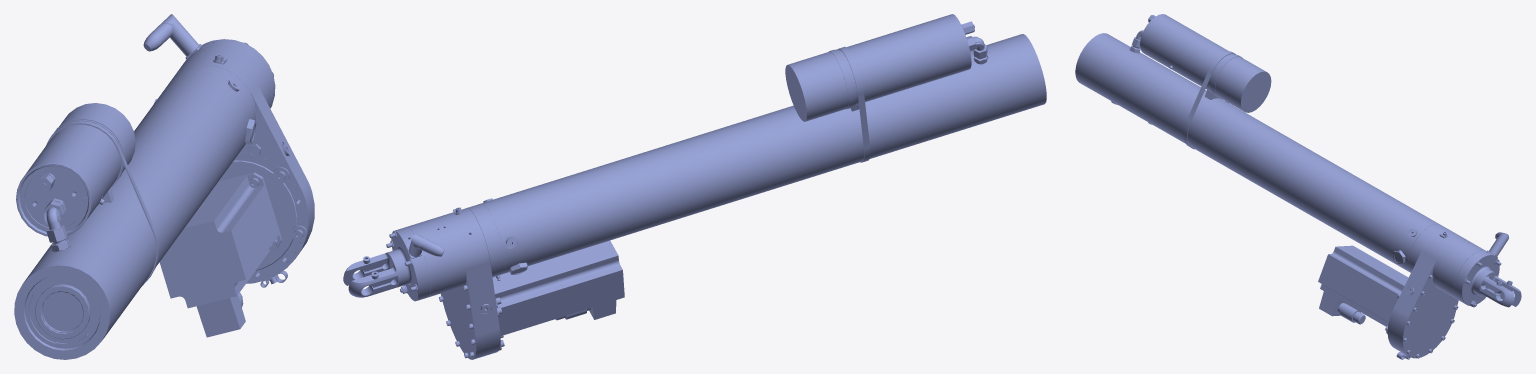
The model's file is CylinderRight.obj.
The picture shows the model from 3 angles, left to right: view 1: azimuth 30°, elevation 25°; view 2: azimuth 150°, elevation 25°; view 3: azimuth 270°, elevation 25°; orthographic projection. The views are drawn at different scales.
Parts seen in each view (by area): view 1: 1200-ActuatorComplete_assy.stp; view 2: 1200-ActuatorComplete_assy.stp; view 3: 1200-ActuatorComplete_assy.stp.
Part boxes in pixels (box(x1,y1,x2,y2)): 1200-ActuatorComplete_assy.stp: box(14, 14, 314, 359); 1200-ActuatorComplete_assy.stp: box(343, 14, 1046, 359); 1200-ActuatorComplete_assy.stp: box(1075, 14, 1521, 359).
Bounding box in the file's own units: 0.9674 × 0.6067 × 1.1.
